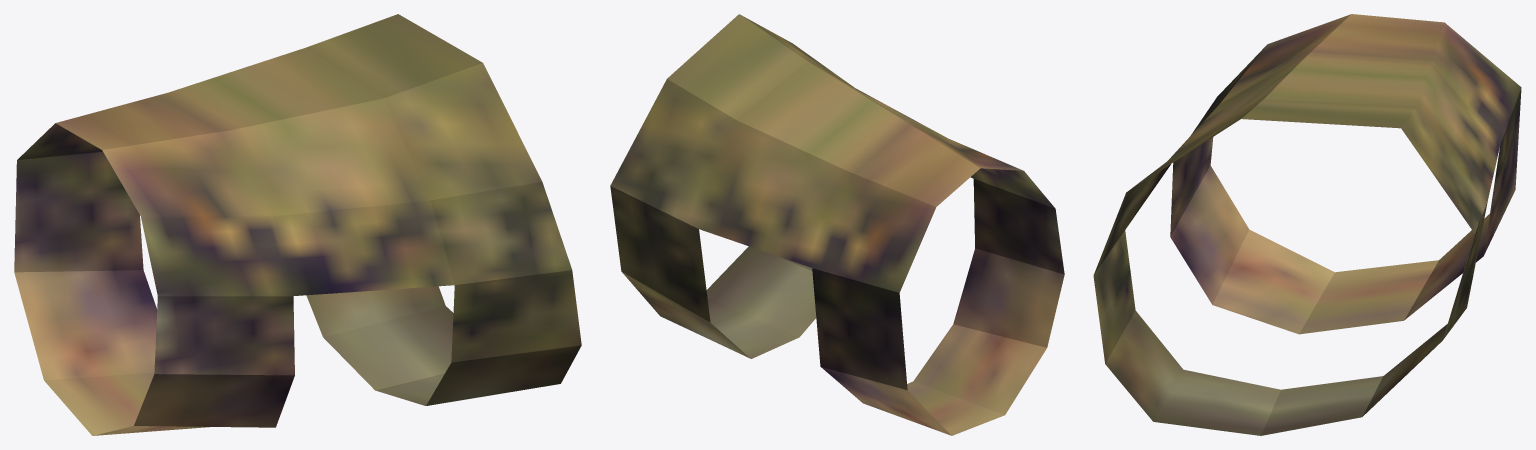
The model's file is Temp_Bandage.fbx.
3 renders of one model, left to right at view 1: azimuth 30°, elevation 25°; view 2: azimuth 150°, elevation 25°; view 3: azimuth 270°, elevation 25°, orthographic. The views are drawn at different scales.
Visible parts, largest first — view 1: pasted__pasted__pasted__polySurface3; view 2: pasted__pasted__pasted__polySurface3; view 3: pasted__pasted__pasted__polySurface3.
Boxes of the visible parts, bbox=[...] form: pasted__pasted__pasted__polySurface3: bbox=[14, 14, 581, 435]; pasted__pasted__pasted__polySurface3: bbox=[610, 14, 1064, 435]; pasted__pasted__pasted__polySurface3: bbox=[1093, 14, 1521, 435].
Size of the model in its own units: 16.56 by 13.84 by 16.74.
